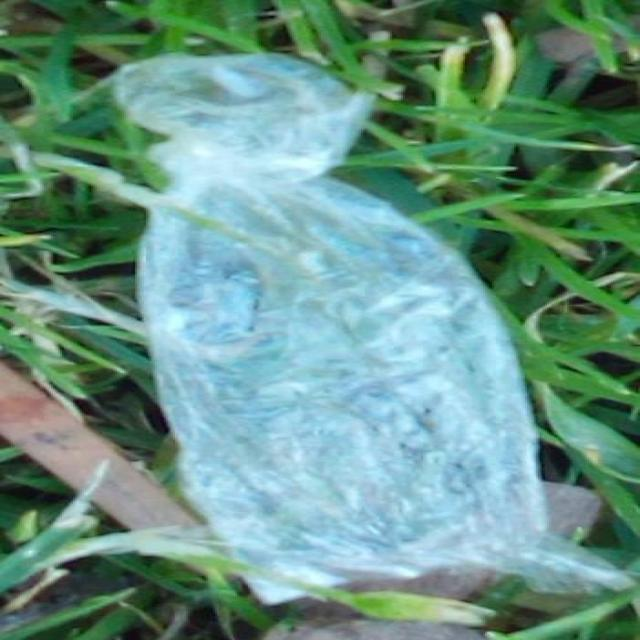litter: (40, 31, 620, 586)
